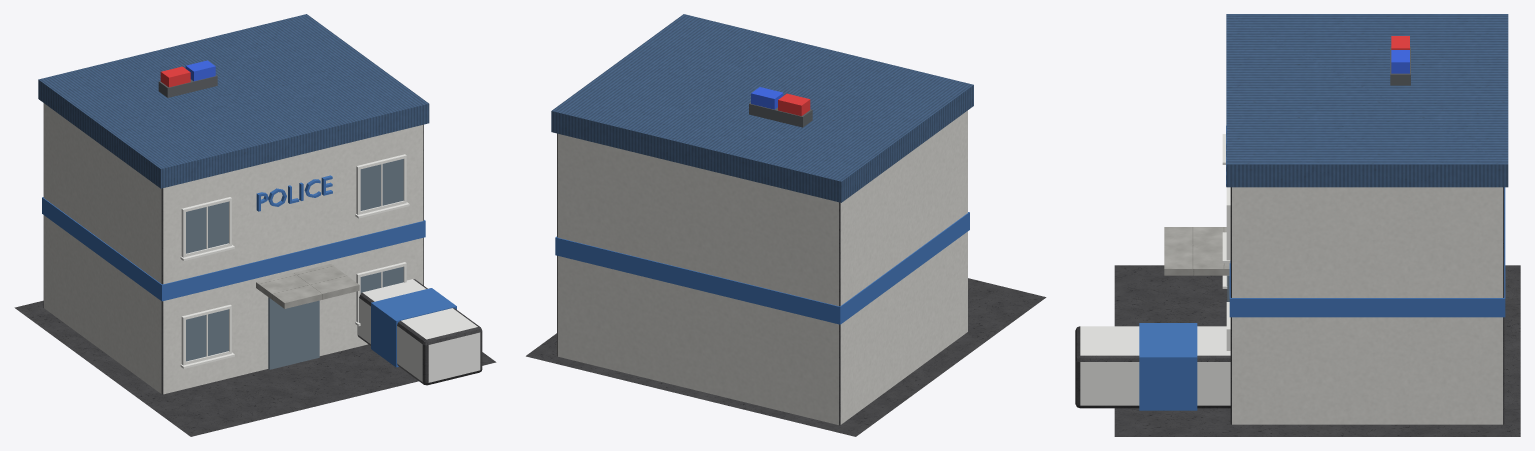
File: police.gltf
3 renders of one model, left to right at view 1: azimuth 30°, elevation 25°; view 2: azimuth 150°, elevation 25°; view 3: azimuth 270°, elevation 25°, orthographic. The views are drawn at different scales.
Parts seen in each view (by area): view 1: police; view 2: police; view 3: police.
Part boxes in pixels (x1=…): police: x1=14, y1=14, x2=496, y2=436; police: x1=526, y1=14, x2=1046, y2=436; police: x1=1075, y1=14, x2=1520, y2=436.
Size of the model in its own units: 1.96 by 1.52 by 2.15.
Materials: 11 (4 with a texture image).
